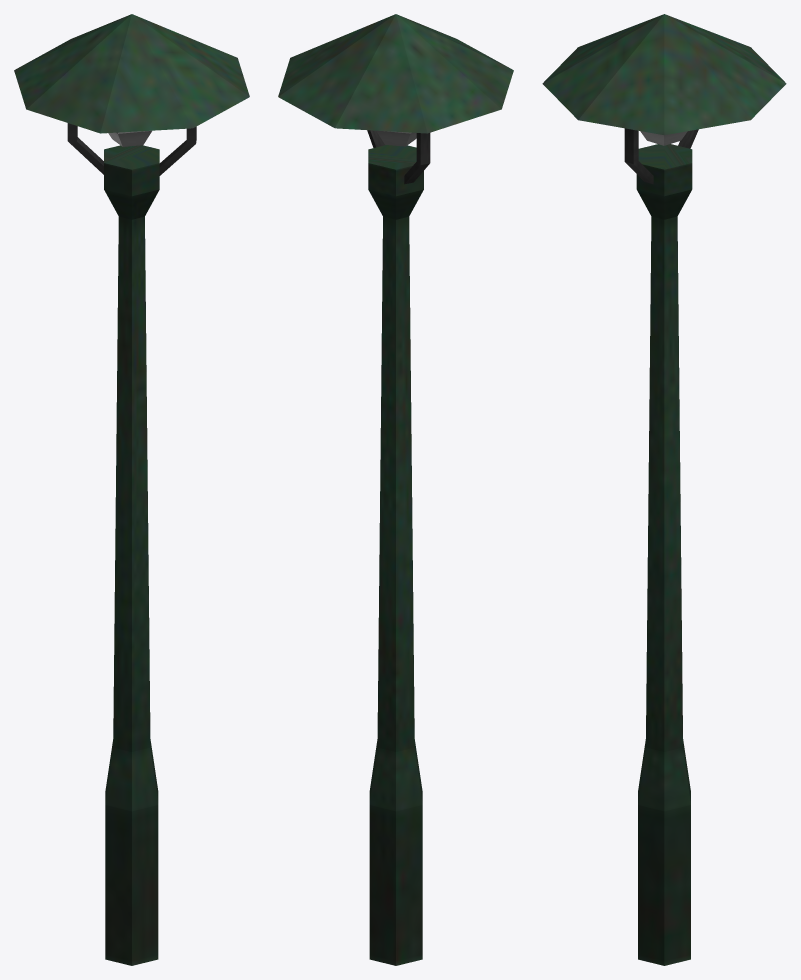
Rendered from lamp1.glb.
The picture shows the model from 3 angles, left to right: view 1: azimuth 30°, elevation 25°; view 2: azimuth 150°, elevation 25°; view 3: azimuth 270°, elevation 25°; orthographic projection.
Size of the model in its own units: 0.5895 by 2.5 by 0.5895.
Materials: 1 (1 with a texture image).
